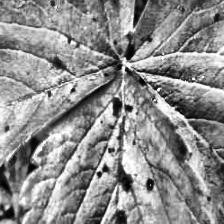Leaf Spot: (16, 64, 218, 224), (0, 0, 136, 180), (124, 0, 224, 224)
